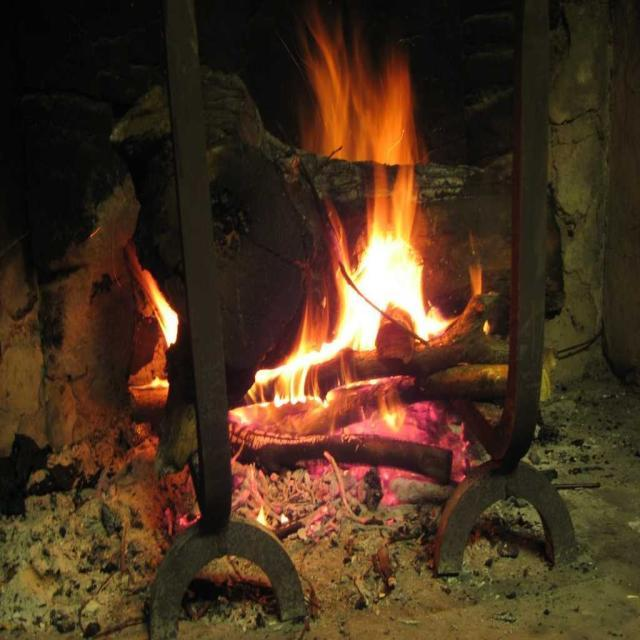Fire: (362, 242, 422, 322)
